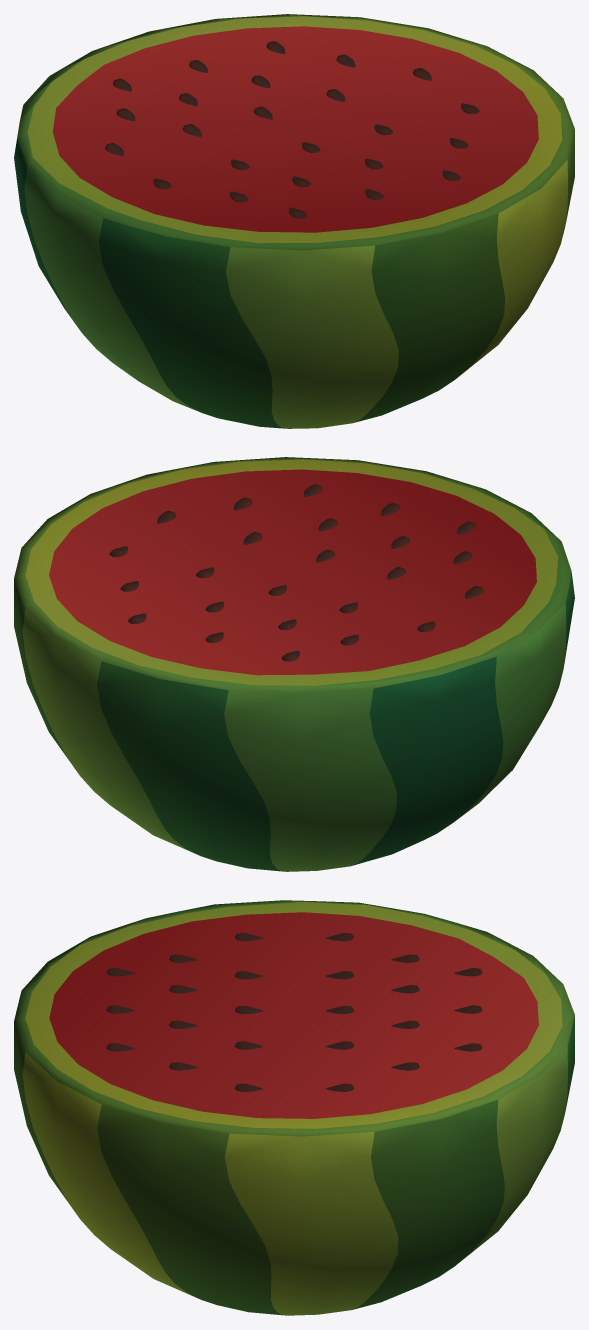
File: Watermelon_002.glb
3 renders of one model, top to bottom at view 1: azimuth 30°, elevation 25°; view 2: azimuth 150°, elevation 25°; view 3: azimuth 270°, elevation 25°, orthographic.
Parts seen in each view (by area): view 1: geometry_0; view 2: geometry_0; view 3: geometry_0.
Boxes of the visible parts, x1,y1,x2,y2 form: geometry_0: (14, 14, 574, 428); geometry_0: (14, 457, 574, 871); geometry_0: (14, 900, 574, 1315).
Bounding box in the file's own units: 0.2005 × 0.1075 × 0.1998.
1 material, 1 textured.
